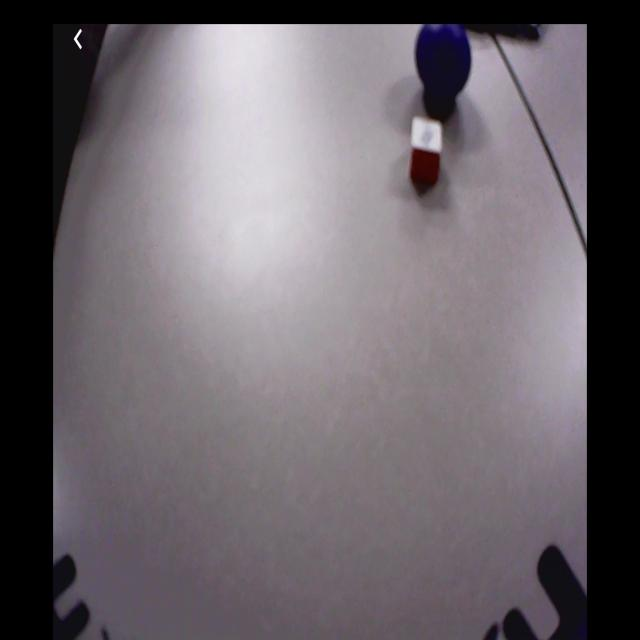ball: (414, 24, 472, 94)
